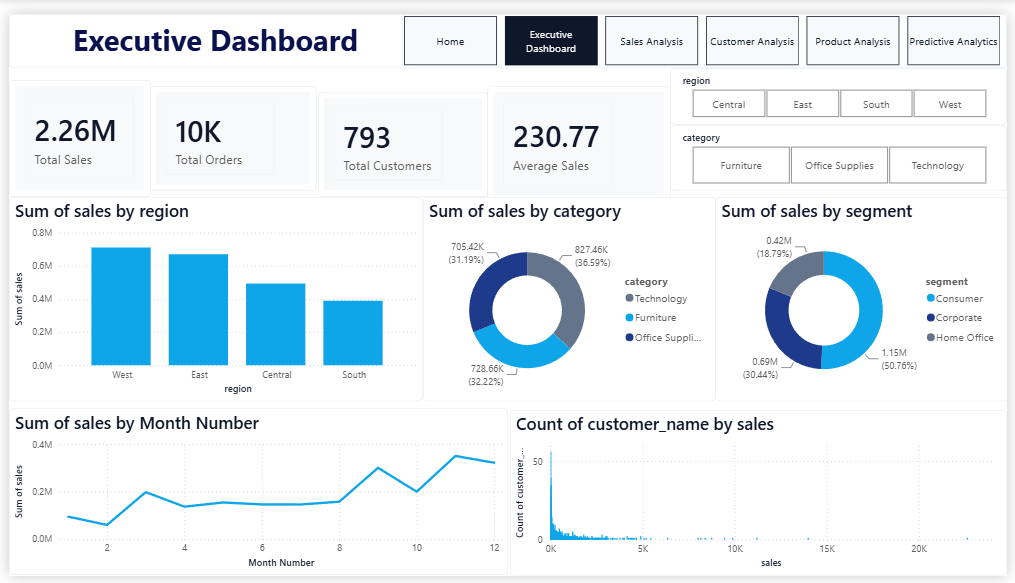

What the dashboard file says about the page in this screenshot:
{"tool":"powerbi","page":{"name":"Executive Dashboard","canvas":[1280,720],"ordinal":1},"visuals":[{"type":"textbox","box":[0,0,530,69.7],"z":0},{"type":"cardVisual","fields":{"Data":["public orders.Total Sales"]},"box":[0,84.8,181.7,149.9],"z":1000},{"type":"cardVisual","fields":{"Data":["public orders.Total Orders"]},"box":[181.7,92.4,213.5,134.8],"z":2000},{"type":"cardVisual","fields":{"Data":["public orders.Total Customers"]},"box":[395.2,99.9,218,134.8],"z":3000},{"type":"cardVisual","fields":{"Data":["public orders.Average Sales"]},"box":[613.3,92.4,234.7,149.9],"z":4000},{"type":"slicer","fields":{"Values":["public orders.region"]},"box":[848,69.7,431.5,72.7],"z":5000},{"type":"slicer","fields":{"Values":["public orders.category"]},"box":[848,142.3,431.5,84.8],"z":6000},{"type":"donutChart","fields":{"Category":["public orders.category"],"Y":["Sum(public orders.sales)"]},"box":[530,235,375,261.7],"z":7000},{"type":"clusteredColumnChart","fields":{"Category":["public orders.region"],"Y":["Sum(public orders.sales)"]},"box":[0,235,530,261.7],"z":8000},{"type":"lineChart","fields":{"Y":["Sum(public orders.sales)"],"Category":["public orders.Month Number"]},"box":[0,506.7,640,213.3],"z":9000},{"type":"donutChart","fields":{"Category":["public orders.segment"],"Y":["Sum(public orders.sales)"]},"box":[905,235,375,261.7],"z":10000},{"type":"columnChart","fields":{"Category":["public orders.sales"],"Y":["CountNonNull(public orders.customer_name)"]},"box":[642,507.3,637.5,212],"z":11000},{"type":"pageNavigator","box":[504.2,0,775.3,69.7],"z":12000}]}

Visuals, with their boxes in screenshot pixels (x1, y1, x2, y2), scaled from the page's 1280x720 canvas onto the 1015x583 screenshot:
textbox: bbox(0, 0, 420, 56)
cardVisual - public orders.Total Sales: bbox(0, 69, 144, 190)
cardVisual - public orders.Total Orders: bbox(144, 75, 313, 184)
cardVisual - public orders.Total Customers: bbox(313, 81, 486, 190)
cardVisual - public orders.Average Sales: bbox(486, 75, 672, 196)
slicer - public orders.region: bbox(672, 56, 1014, 115)
slicer - public orders.category: bbox(672, 115, 1014, 184)
donutChart - public orders.category x Sum(public orders.sales): bbox(420, 190, 718, 402)
clusteredColumnChart - public orders.region x Sum(public orders.sales): bbox(0, 190, 420, 402)
lineChart - Sum(public orders.sales) x public orders.Month Number: bbox(0, 410, 508, 582)
donutChart - public orders.segment x Sum(public orders.sales): bbox(718, 190, 1014, 402)
columnChart - public orders.sales x CountNonNull(public orders.customer_name): bbox(509, 411, 1014, 582)
pageNavigator: bbox(400, 0, 1014, 56)
